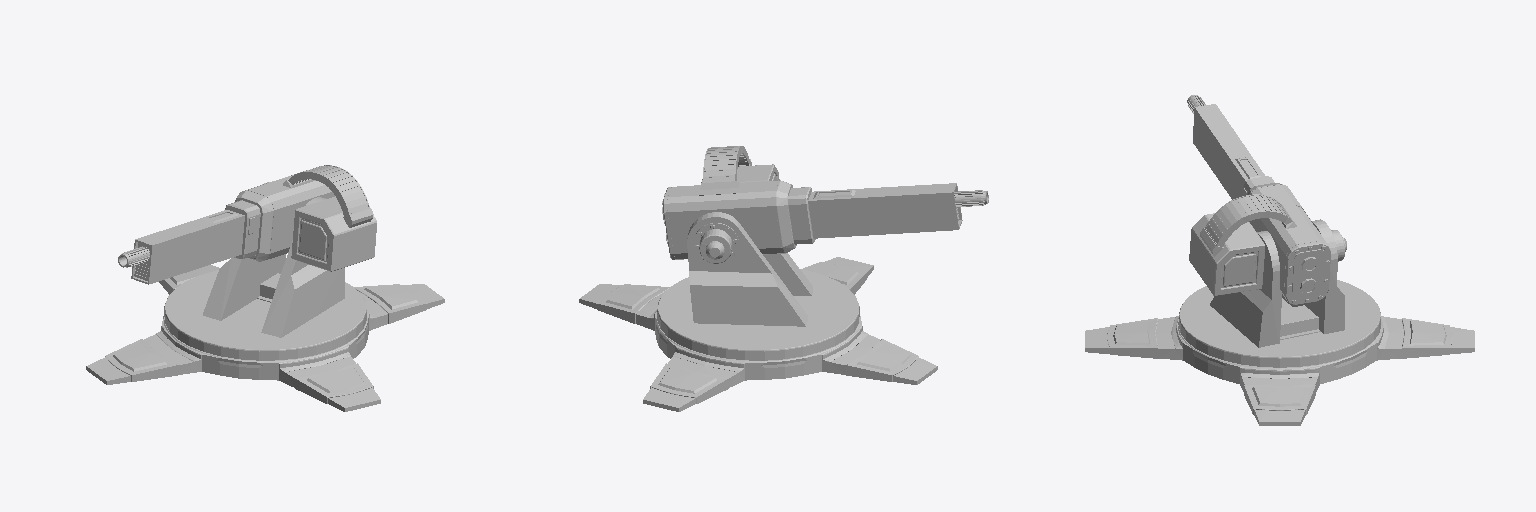
Rendered from newTurret.obj.
The picture shows the model from 3 angles: view 1: azimuth 30°, elevation 25°; view 2: azimuth 150°, elevation 25°; view 3: azimuth 270°, elevation 25°; orthographic projection.
Parts seen in each view (by area): view 1: Motor; view 2: Motor; view 3: Motor.
Part boxes in pixels (x1,y1,x2,y2): Motor: (86,165,444,411); Motor: (579,146,988,411); Motor: (1085,95,1474,425).
Size of the model in its own units: 5.46 by 2.43 by 5.17.